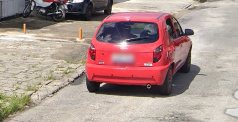car: (84, 10, 196, 96)
